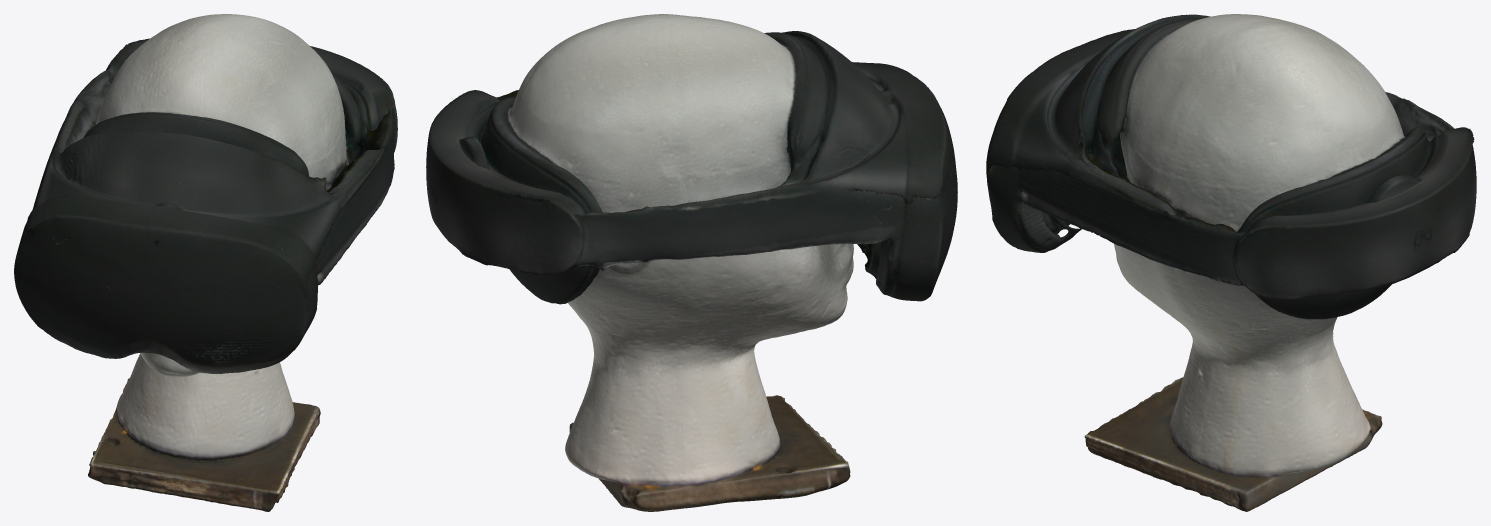
The model's file is meta_quest_pro_headset_on_head.glb.
The picture shows the model from 3 angles, left to right: view 1: azimuth 30°, elevation 25°; view 2: azimuth 150°, elevation 25°; view 3: azimuth 270°, elevation 25°; orthographic projection. The views are drawn at different scales.
Parts seen in each view (by area): view 1: Object_3, Object_2, Object_5, Object_6, Object_4; view 2: Object_4, Object_5, Object_3, Object_2, Object_6; view 3: Object_3, Object_5, Object_4, Object_2, Object_6.
Boxes of the visible parts, x1,y1,x2,y2 form: Object_3: (15,15,394,458); Object_2: (14,74,391,415); Object_5: (95,14,397,508); Object_6: (89,17,366,504); Object_4: (58,14,338,511); Object_4: (426,29,849,511); Object_5: (426,43,910,489); Object_3: (431,14,957,448); Object_2: (488,20,957,282); Object_6: (544,36,850,500); Object_3: (986,14,1470,477); Object_5: (991,18,1475,480); Object_4: (1084,48,1476,511); Object_2: (986,29,1380,478); Object_6: (1088,55,1372,500).
Size of the model in its own units: 0.3277 by 0.3181 by 0.325.
1 material, 1 textured.
